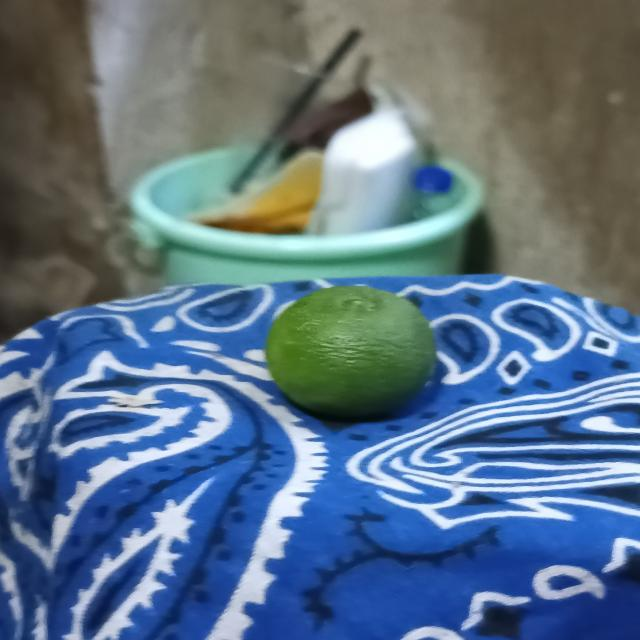heathy: (255, 279, 442, 419)
